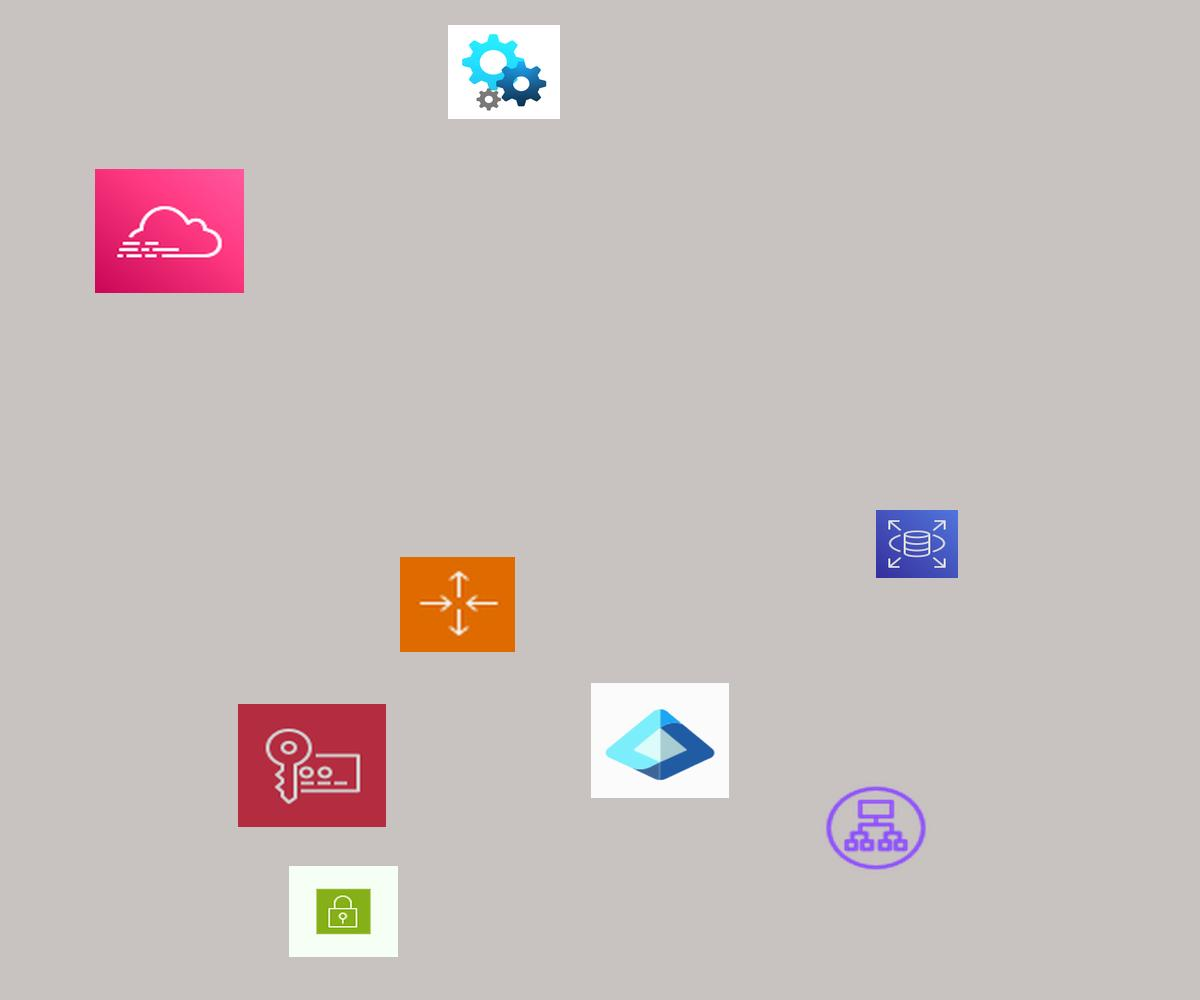AWS-CloudTrail: (95, 169, 244, 293)
AWS-Key-Management-Service: (238, 704, 386, 827)
AWS-Public-subnet: (289, 866, 398, 957)
AWS-RDS: (876, 510, 958, 578)
AWS-Res_Elastic-Load-Balancing_Application-Load-Balancer: (822, 783, 930, 873)
AWS-Scaling-group: (400, 557, 515, 652)
Azure_api: (448, 25, 560, 119)
Azure_microsoft_entra: (591, 683, 729, 798)
